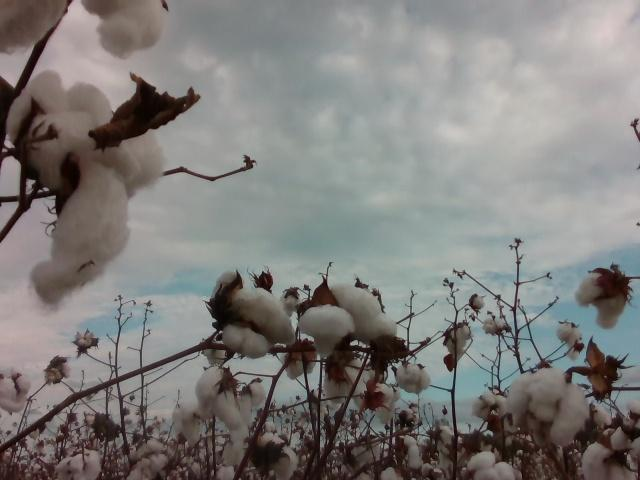cotton_ready: (8, 67, 166, 313), (207, 270, 295, 359), (299, 281, 398, 358), (507, 367, 590, 446), (81, 0, 168, 57), (0, 0, 68, 56), (576, 268, 628, 331), (196, 365, 243, 430), (584, 425, 638, 480), (324, 357, 368, 404), (258, 435, 298, 480), (171, 403, 203, 447), (0, 368, 31, 412), (468, 451, 515, 480), (56, 451, 101, 480), (370, 383, 400, 426), (134, 437, 168, 472), (394, 363, 430, 394), (239, 380, 269, 417), (224, 427, 252, 465)
